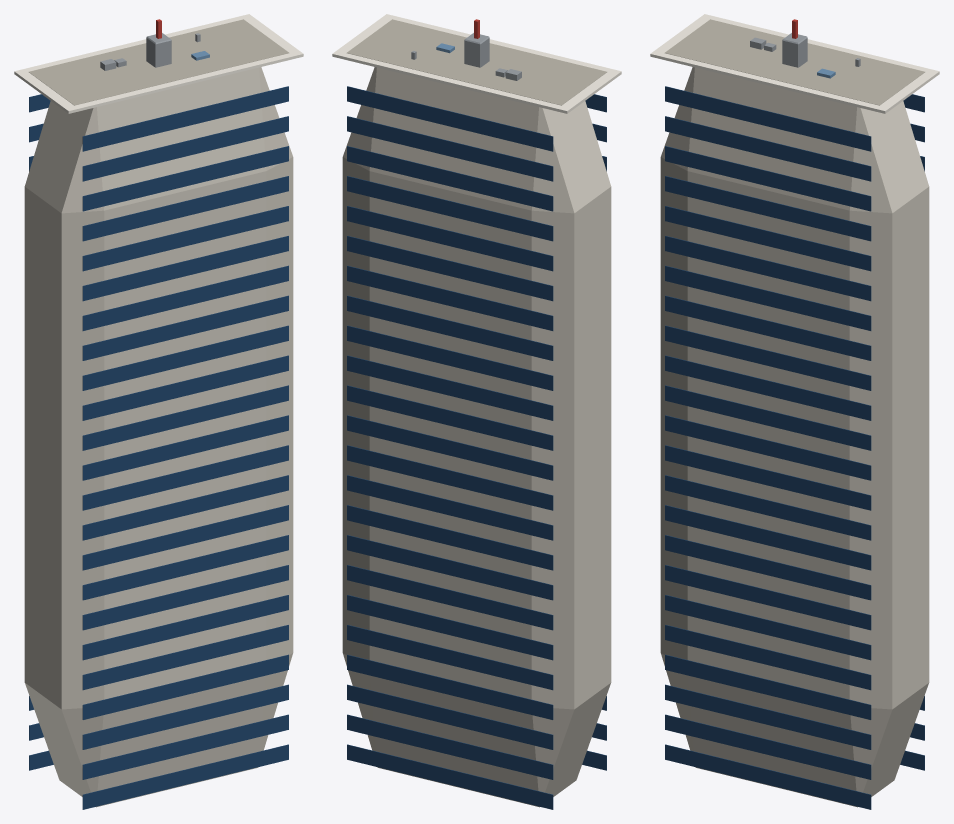
File: tower_slab_h90.glb
The picture shows the model from 3 angles, left to right: view 1: azimuth 30°, elevation 25°; view 2: azimuth 150°, elevation 25°; view 3: azimuth 330°, elevation 25°; orthographic projection.
Visible parts, largest first — view 1: slab, slabroof, slablip, win.008, win.010, win.021, win, win.003, win.005, win.006, win.009, win.013 (+15 smaller); view 2: slab, slabroof, slablip, win.031, win.033, win.044, win.023, win.026, win.028, win.029, win.032, win.036 (+15 smaller); view 3: slab, slabroof, slablip, win.008, win.010, win.021, win, win.003, win.005, win.006, win.009, win.013 (+15 smaller).
Boxes of the visible parts, x1,y1,x2,y2 form: slab: (24, 67, 293, 807); slabroof: (29, 19, 288, 105); slablip: (14, 14, 303, 113); win.008: (82, 505, 288, 570); win.010: (82, 445, 288, 510); win.021: (82, 116, 288, 181); win: (82, 744, 288, 809); win.003: (82, 654, 288, 719); win.005: (82, 595, 288, 660); win.006: (82, 565, 288, 630); win.009: (82, 475, 288, 540); win.013: (82, 355, 288, 420); slab: (342, 67, 611, 807); slabroof: (347, 19, 606, 105); slablip: (332, 14, 621, 113); win.031: (347, 505, 553, 570); win.033: (347, 445, 553, 510); win.044: (347, 116, 553, 181); win.023: (347, 744, 553, 809); win.026: (347, 654, 553, 719); win.028: (347, 595, 553, 660); win.029: (347, 565, 553, 630); win.032: (347, 475, 553, 540); win.036: (347, 355, 553, 420); slab: (660, 67, 929, 807); slabroof: (665, 19, 924, 105); slablip: (650, 14, 939, 113); win.008: (665, 505, 871, 570); win.010: (665, 445, 871, 510); win.021: (665, 116, 871, 181); win: (665, 744, 871, 809); win.003: (665, 654, 871, 719); win.005: (665, 595, 871, 660); win.006: (665, 565, 871, 630); win.009: (665, 475, 871, 540); win.013: (665, 355, 871, 420).
Bounding box in the file's own units: 31.24 × 95.7 × 12.54.
